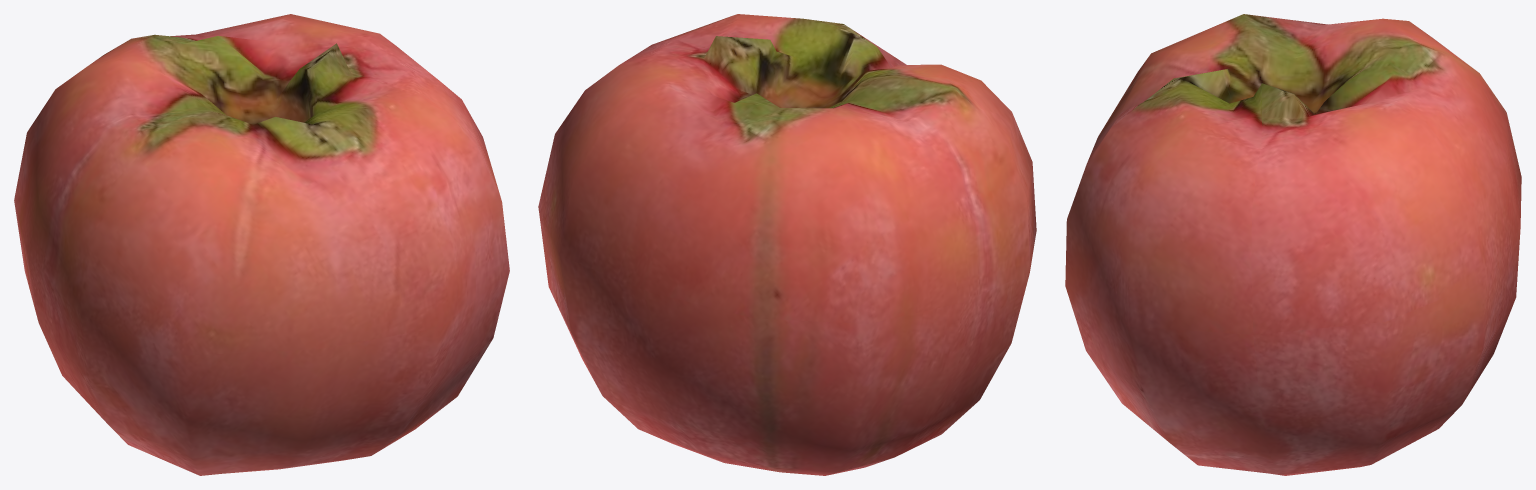
The model's file is A39_Persimmon_low.fbx.
3 views of the same model, side by side, from view 1: azimuth 30°, elevation 25°; view 2: azimuth 150°, elevation 25°; view 3: azimuth 270°, elevation 25° (orthographic). The views are drawn at different scales.
Parts seen in each view (by area): view 1: A39_Persimmon_low; view 2: A39_Persimmon_low; view 3: A39_Persimmon_low.
Boxes of the visible parts, box(x1,y1,x2,y2) form: A39_Persimmon_low: box(14, 14, 509, 475); A39_Persimmon_low: box(538, 14, 1036, 475); A39_Persimmon_low: box(1065, 14, 1521, 475).
Bounding box in the file's own units: 6.71 × 6.42 × 5.77.
1 material, 1 textured.
